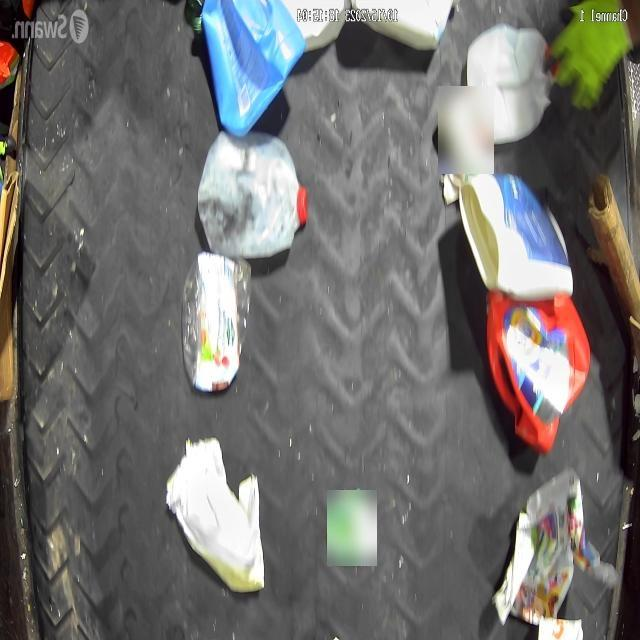milk_jug: (198, 133, 308, 260), (466, 26, 555, 144), (352, 0, 459, 51)
non_white_jug: (486, 296, 591, 454), (200, 0, 306, 137), (459, 176, 574, 296)
